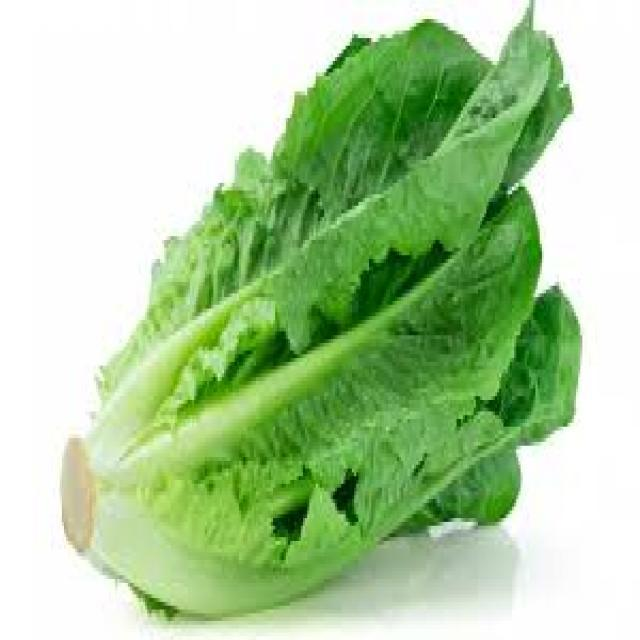Lettuce: (58, 0, 582, 621)
